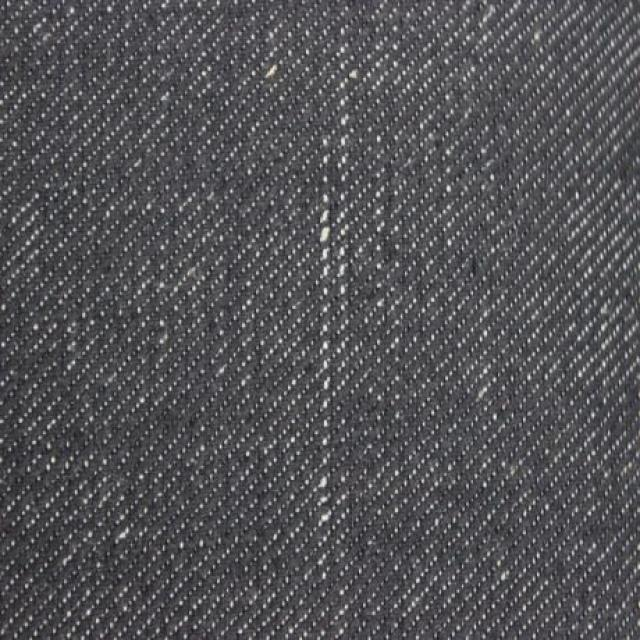stains: (212, 48, 472, 640)
